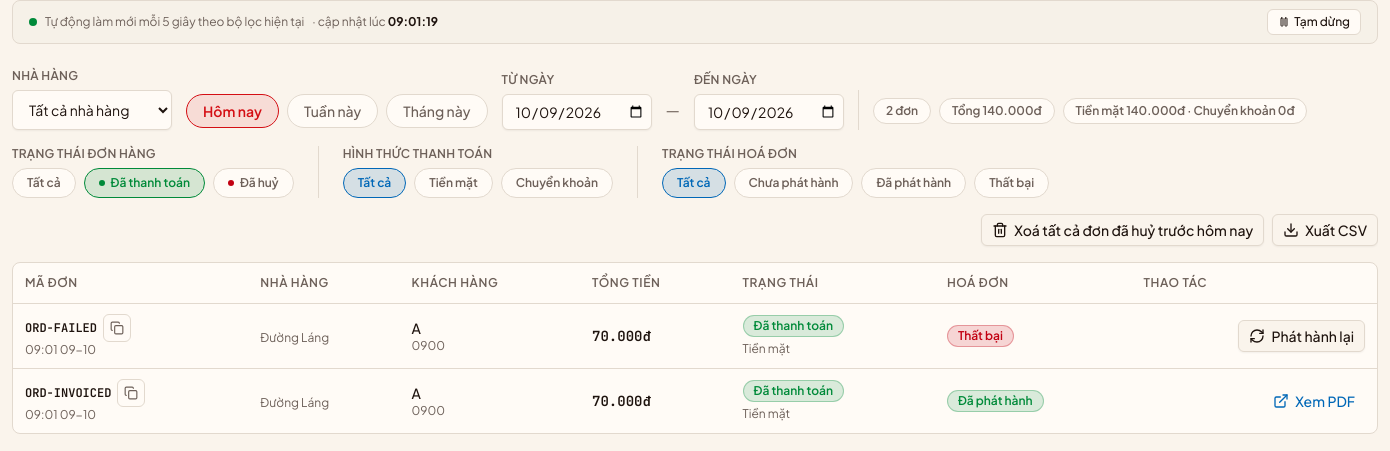
Test: AccountingPage failed-invoice display path › narrows the table to failed orders when the 'Thất bại' invoice filter is selected
expect the text "ORD-FAILED" is shown: met, box [25,320,97,336]
Click the button "Thất bại" at (1012, 183), box [974,168,1049,198]
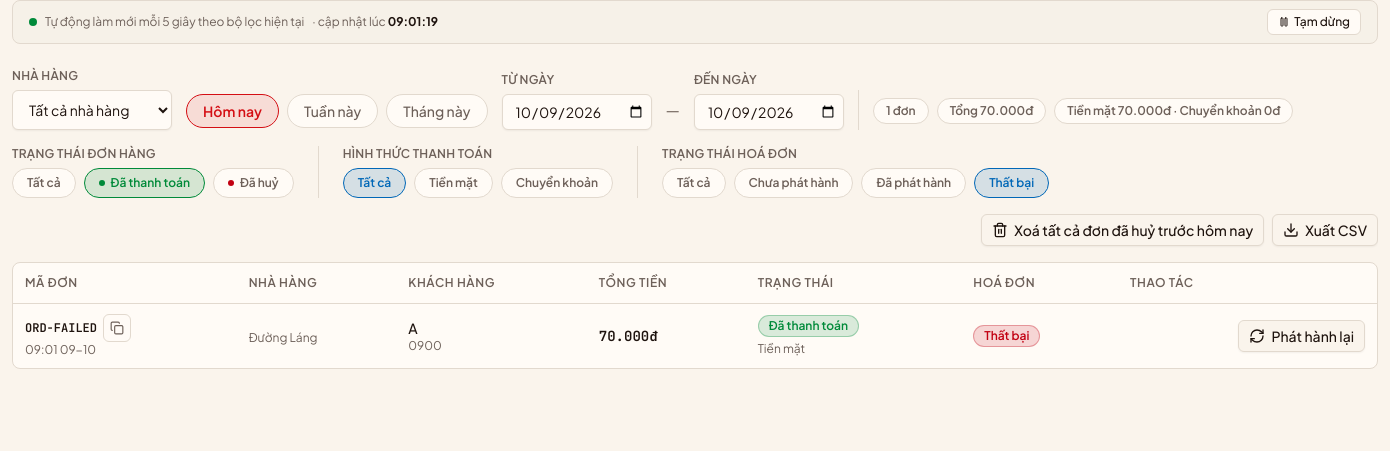
expect the text "ORD-FAILED" is shown: met, box [25,320,97,336]
expect the text "ORD-INVOICED" is gone: met
